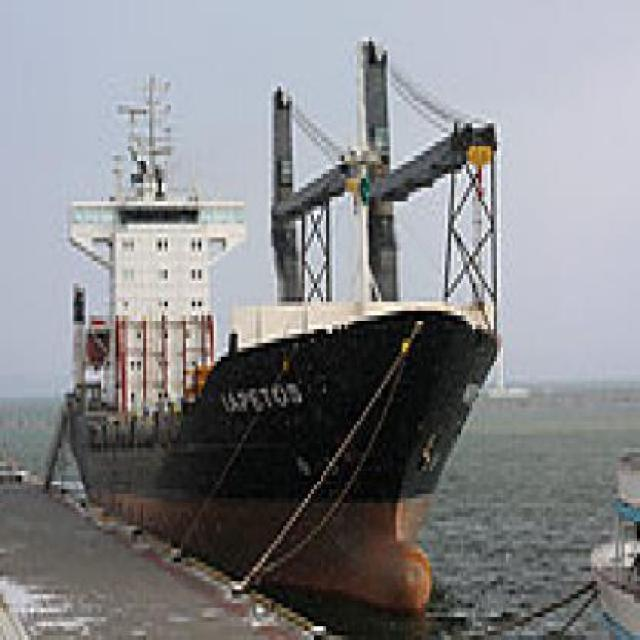container: (56, 24, 519, 636)
